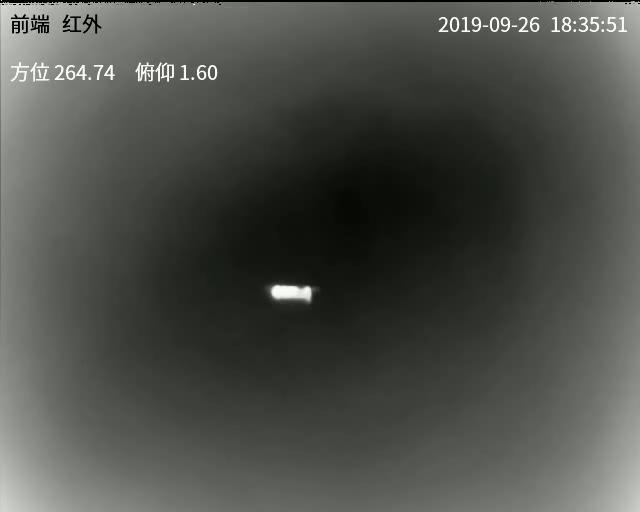uav: (262, 276, 317, 307)
